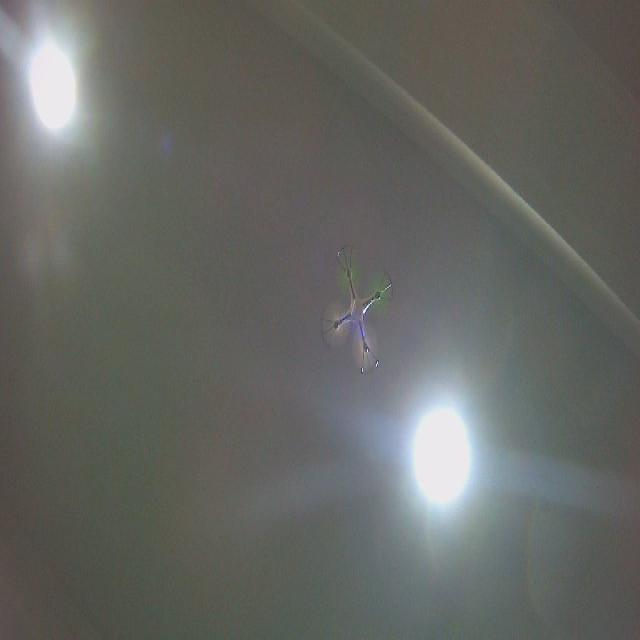drone: (319, 242, 397, 378)
